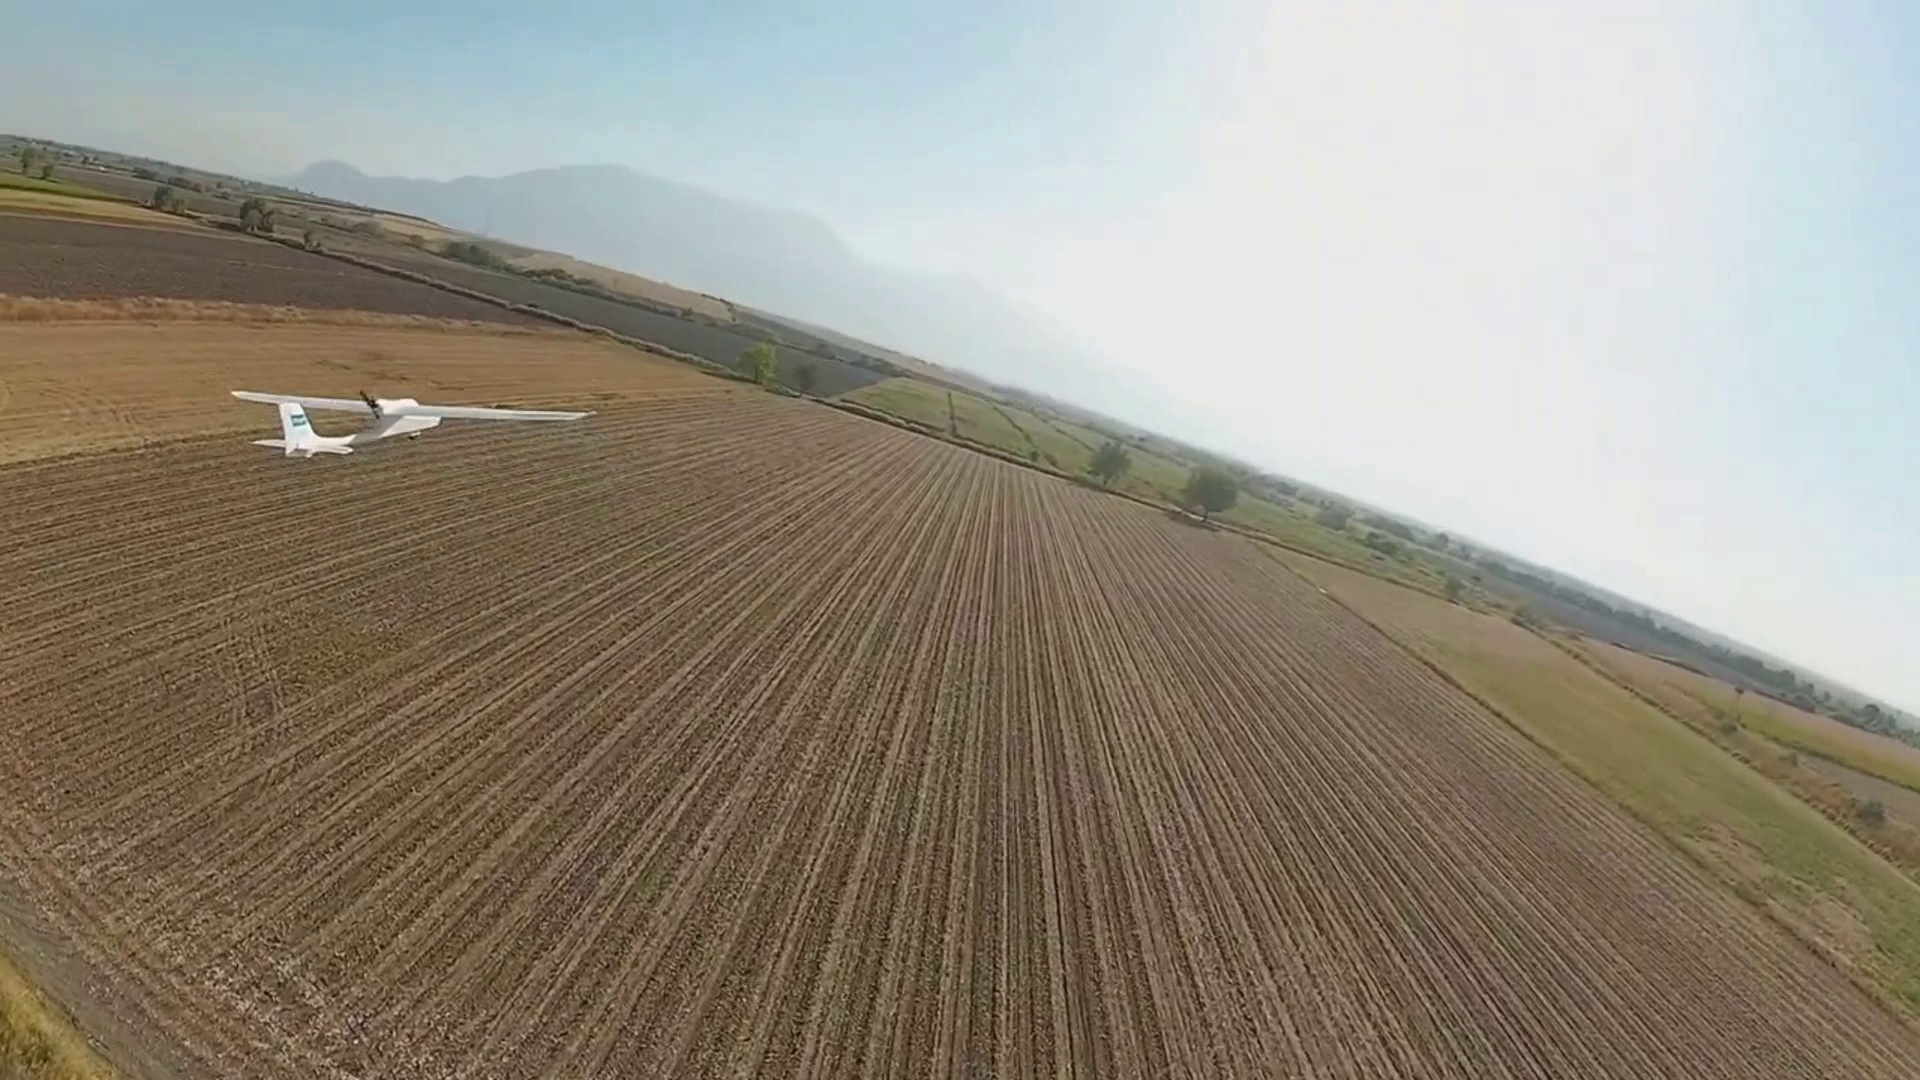airplane: (225, 388, 440, 458)
